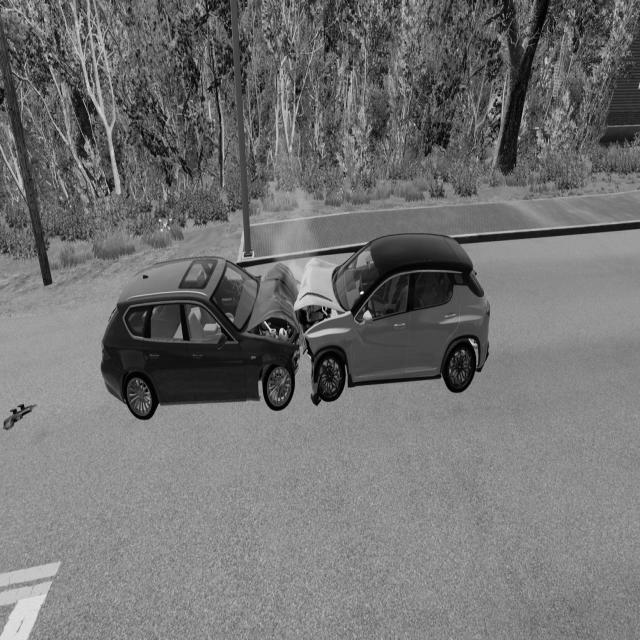accident: (97, 233, 493, 426)
